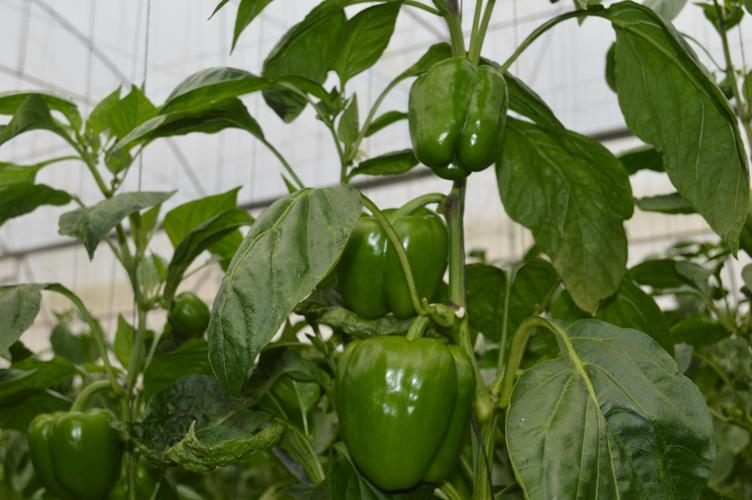BellPepper: (329, 333, 482, 488), (392, 53, 531, 178), (326, 187, 455, 317), (21, 400, 133, 500), (160, 286, 215, 348)
